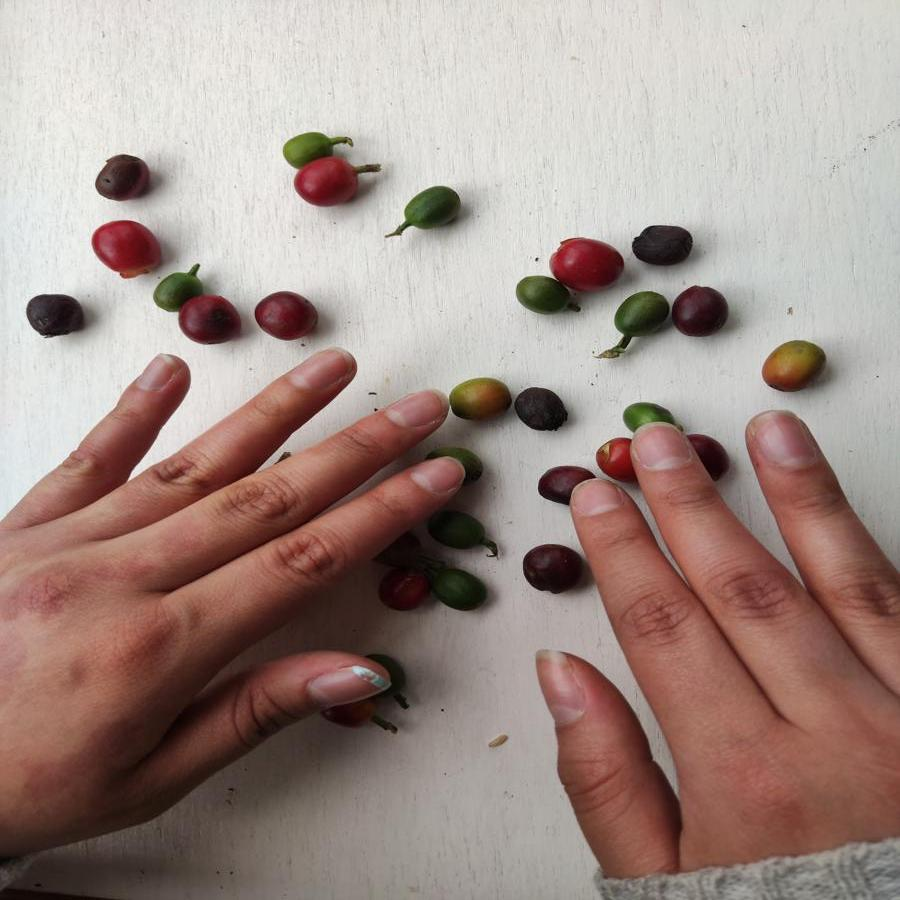Inmaduro: (612, 288, 671, 341), (400, 186, 465, 234), (432, 567, 490, 612), (431, 511, 488, 550), (513, 275, 567, 315), (279, 129, 337, 159), (156, 268, 203, 300), (620, 401, 679, 424)
Maduro: (93, 219, 161, 278), (548, 238, 625, 288), (292, 159, 364, 207), (597, 433, 633, 478)
Pinton: (762, 337, 825, 393), (450, 376, 513, 418)
Sobremaduro: (178, 295, 241, 348), (521, 544, 585, 595), (255, 288, 317, 340), (671, 284, 730, 335), (632, 222, 694, 268), (25, 291, 87, 337), (513, 385, 572, 433), (92, 151, 147, 201), (535, 466, 569, 501)
